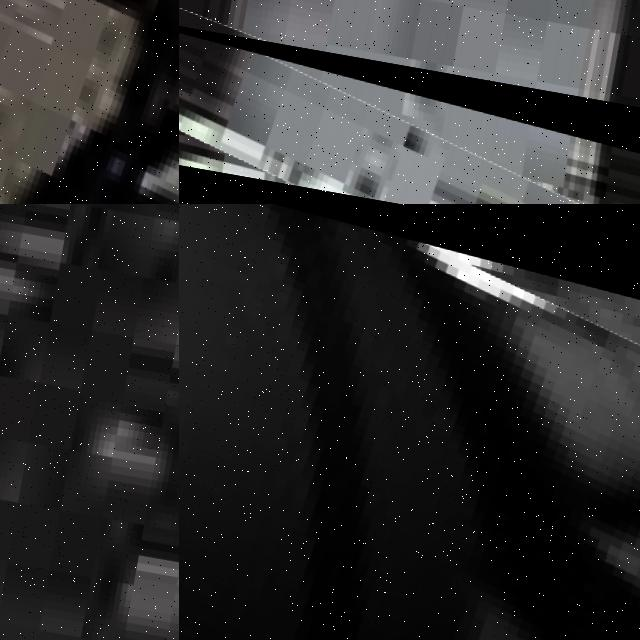drone: (179, 204, 640, 640), (179, 11, 640, 204), (0, 0, 179, 204)
